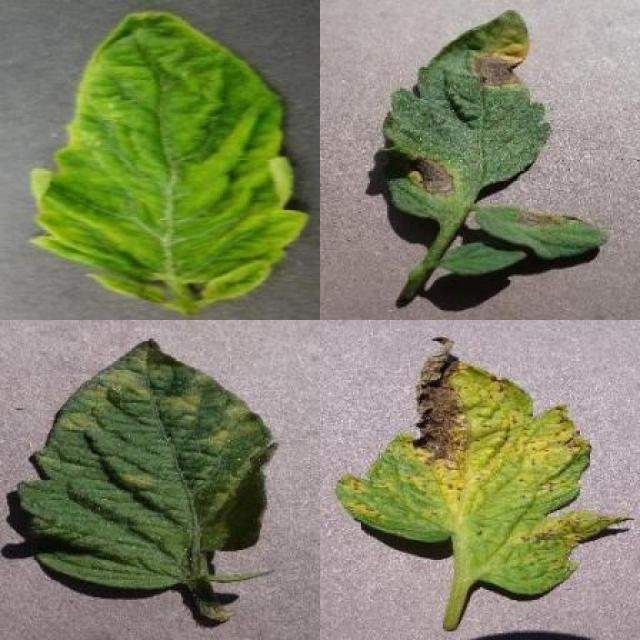Early Blight: (375, 7, 551, 214)
Leaf Mold: (16, 340, 277, 590)
Septoria: (337, 334, 634, 597)
Yellow Leaf Curl Virus: (31, 10, 312, 317)
